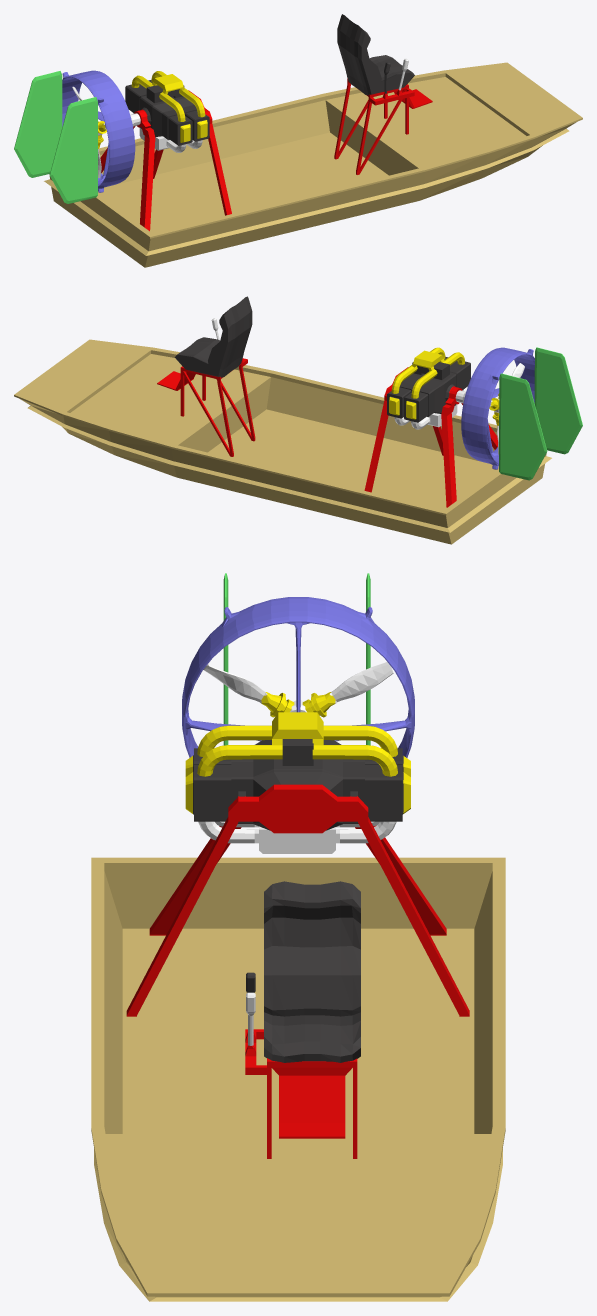
The picture shows the model from 3 angles, top to bottom: view 1: azimuth 30°, elevation 25°; view 2: azimuth 150°, elevation 25°; view 3: azimuth 270°, elevation 25°; orthographic projection. The views are drawn at different scales.
Parts seen in each view (by area): view 1: boat, rudder, shroud, seat, emounts, stand, engine, intakes, cylinders, exhaust, heads; view 2: boat, rudder, shroud, seat, emounts, stand, engine, intakes, cylinders, exhaust, heads; view 3: boat, seat, emounts, shroud, stand, intakes, engine, cylinders, exhaust, prop, rudder, hub.
Boxes of the visible parts, <box> form: boat: <box>44,62,582,267</box>; rudder: <box>14,71,97,203</box>; shroud: <box>62,70,135,192</box>; seat: <box>337,14,414,95</box>; emounts: <box>100,90,231,231</box>; stand: <box>334,78,432,174</box>; engine: <box>134,85,196,139</box>; intakes: <box>131,71,205,121</box>; cylinders: <box>125,79,209,145</box>; exhaust: <box>133,113,202,152</box>; heads: <box>180,120,207,142</box>; boat: <box>14,339,551,544</box>; rudder: <box>499,347,582,480</box>; shroud: <box>461,347,534,469</box>; seat: <box>175,296,252,377</box>; emounts: <box>364,367,498,507</box>; stand: <box>157,358,255,456</box>; engine: <box>399,362,462,416</box>; intakes: <box>391,347,464,398</box>; cylinders: <box>387,356,470,422</box>; exhaust: <box>394,389,463,429</box>; heads: <box>389,397,416,419</box>; boat: <box>91,857,505,1301</box>; seat: <box>264,881,360,1062</box>; emounts: <box>126,784,469,1016</box>; shroud: <box>182,597,414,757</box>; stand: <box>245,1029,357,1158</box>; intakes: <box>197,712,397,776</box>; engine: <box>230,739,366,830</box>; cylinders: <box>193,748,403,821</box>; exhaust: <box>198,821,396,853</box>; prop: <box>203,662,393,703</box>; rudder: <box>223,573,370,745</box>; hub: <box>261,692,335,717</box>.
Bounding box in the file's own units: 3.25 × 0.9595 × 1.14.
